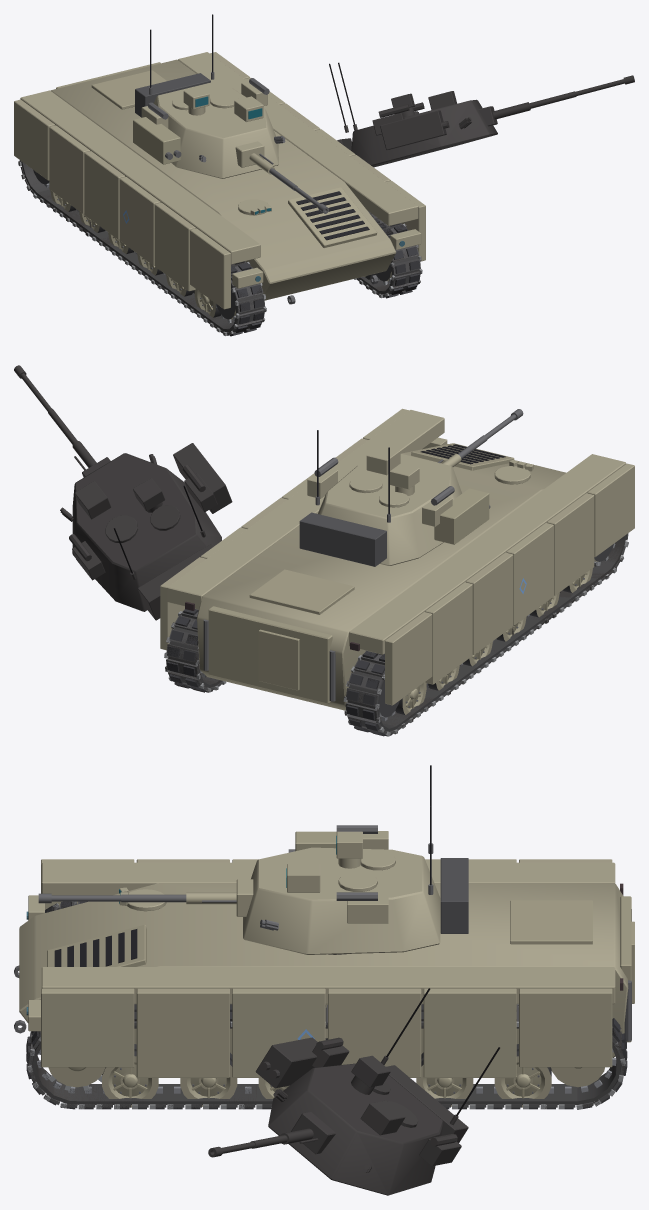
Rendered from ifv__as21_redback.glb.
The picture shows the model from 3 angles, top to bottom: view 1: azimuth 30°, elevation 25°; view 2: azimuth 150°, elevation 25°; view 3: azimuth 270°, elevation 25°; orthographic projection. The views are drawn at different scales.
Parts seen in each view (by area): view 1: Hull_Mesh, Turret_Mesh, Wreck, Track_L_Mesh, Track_R_Mesh, Gun_Mesh; view 2: Hull_Mesh, Wreck, Turret_Mesh, Track_L_Mesh, Track_R_Mesh, Gun_Mesh, Wheel_L0_Mesh; view 3: Hull_Mesh, Wreck, Turret_Mesh, Track_R_Mesh, Gun_Mesh, Wheel_R0_Mesh, Wheel_R5_Mesh, Wheel_R4_Mesh, Wheel_R1_Mesh, Sprocket_R_Mesh, Idler_R_Mesh.
Part boxes in pixels (x1=…): Hull_Mesh: x1=14, y1=52, x2=425, y2=309; Turret_Mesh: x1=133, y1=14, x2=285, y2=178; Wreck: x1=18, y1=62, x2=634, y2=335; Track_L_Mesh: x1=18, y1=160, x2=266, y2=336; Track_R_Mesh: x1=354, y1=211, x2=422, y2=298; Gun_Mesh: x1=235, y1=141, x2=328, y2=213; Hull_Mesh: x1=160, y1=408, x2=634, y2=710; Wreck: x1=14, y1=365, x2=626, y2=734; Turret_Mesh: x1=299, y1=430, x2=490, y2=566; Track_L_Mesh: x1=343, y1=533, x2=628, y2=736; Track_R_Mesh: x1=164, y1=609, x2=226, y2=692; Gun_Mesh: x1=438, y1=409, x2=523, y2=466; Wheel_L0_Mesh: x1=395, y1=682, x2=426, y2=714; Hull_Mesh: x1=14, y1=859, x2=634, y2=1077; Wreck: x1=26, y1=902, x2=625, y2=1195; Turret_Mesh: x1=243, y1=765, x2=468, y2=954; Track_R_Mesh: x1=26, y1=1004, x2=627, y2=1109; Gun_Mesh: x1=38, y1=879, x2=253, y2=916; Wheel_R0_Mesh: x1=494, y1=1044, x2=551, y2=1107; Wheel_R5_Mesh: x1=102, y1=1044, x2=158, y2=1107; Wheel_R4_Mesh: x1=180, y1=1052, x2=237, y2=1106; Wheel_R1_Mesh: x1=416, y1=1052, x2=473, y2=1106; Sprocket_R_Mesh: x1=48, y1=1067, x2=105, y2=1090; Idler_R_Mesh: x1=551, y1=1067, x2=604, y2=1087.
Size of what is drawn, in the model's own units: 9.03 by 3.53 by 7.52.
